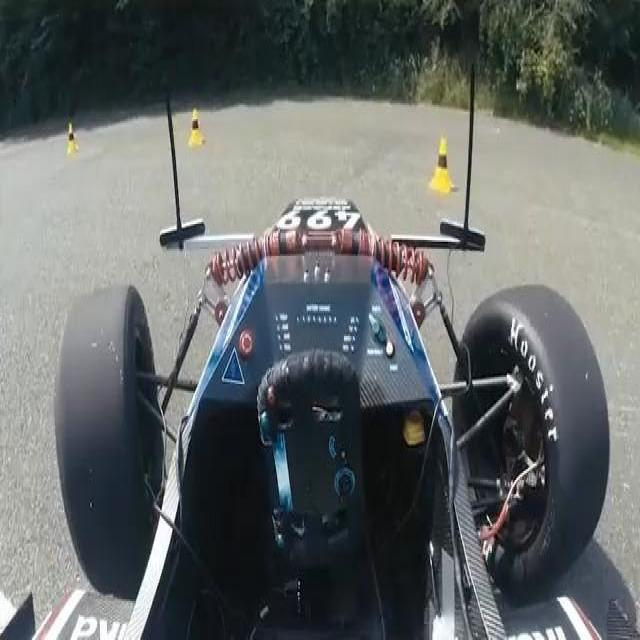yellow_cone: (427, 137, 455, 196), (186, 106, 206, 148), (68, 121, 81, 155)
